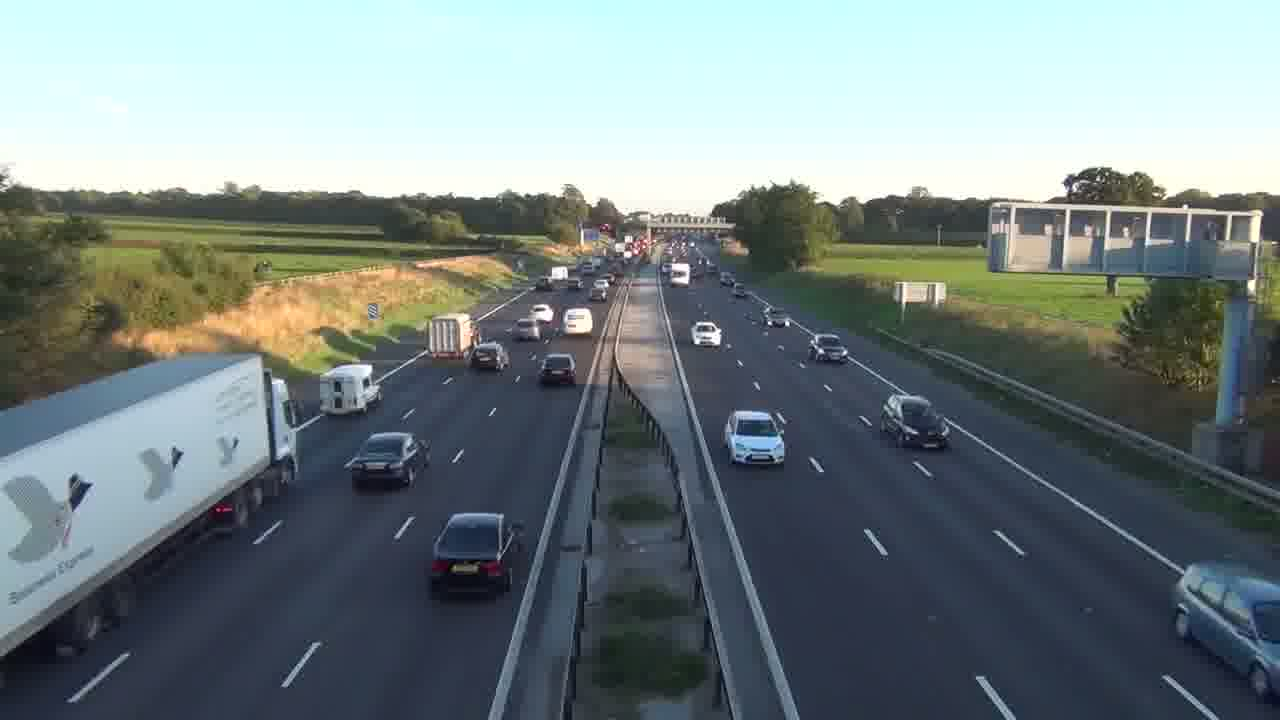car: (1171, 560, 1280, 702), (427, 511, 523, 598), (345, 430, 430, 489), (722, 409, 787, 466), (537, 352, 577, 387), (466, 341, 511, 372), (807, 334, 848, 364), (690, 320, 722, 348), (563, 306, 593, 335)
truck: (0, 354, 302, 656), (880, 392, 950, 451)
